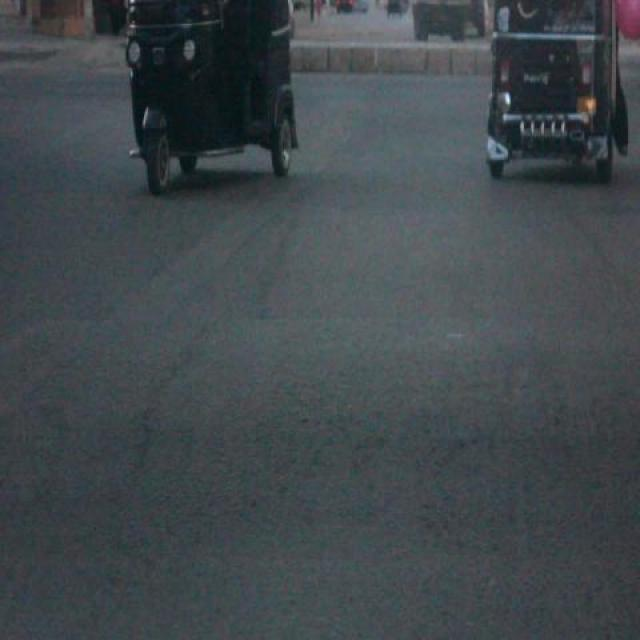Unmarked Bump: (16, 312, 640, 560)
